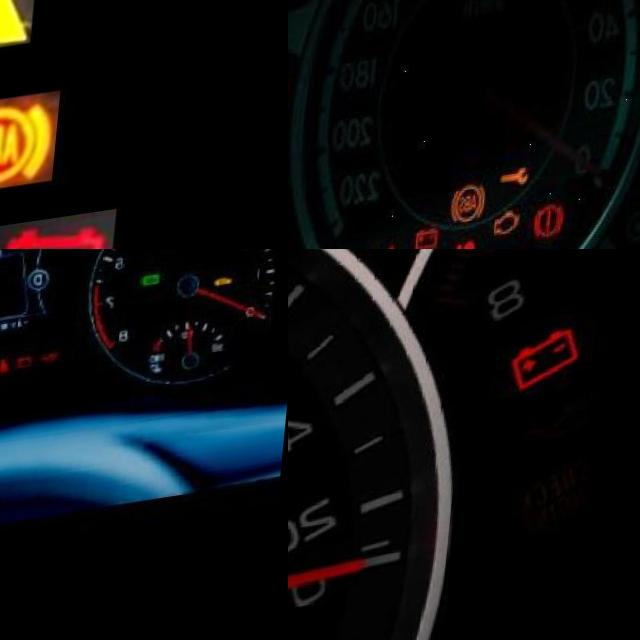Central Warning lamp: (0, 0, 44, 67)
Seat Belt: (2, 371, 17, 390)
